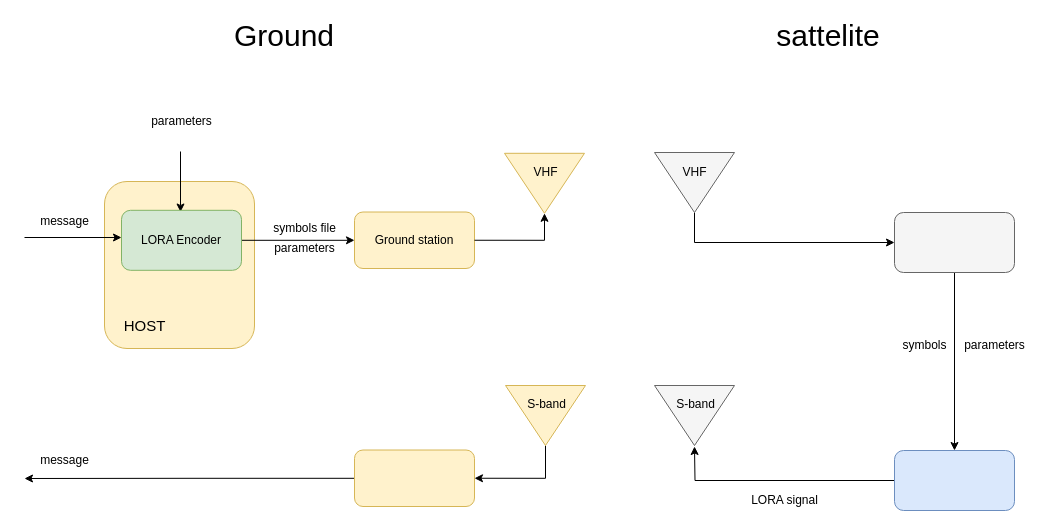
Image size: 1052x528. Some labels were removed from this diagram. Here are the shapes that lost their labels. From the top down, the centre of each, then its label:
[954,242]: OBP
[414,477]: LORA terminal
[954,480]: LORA Modulator
